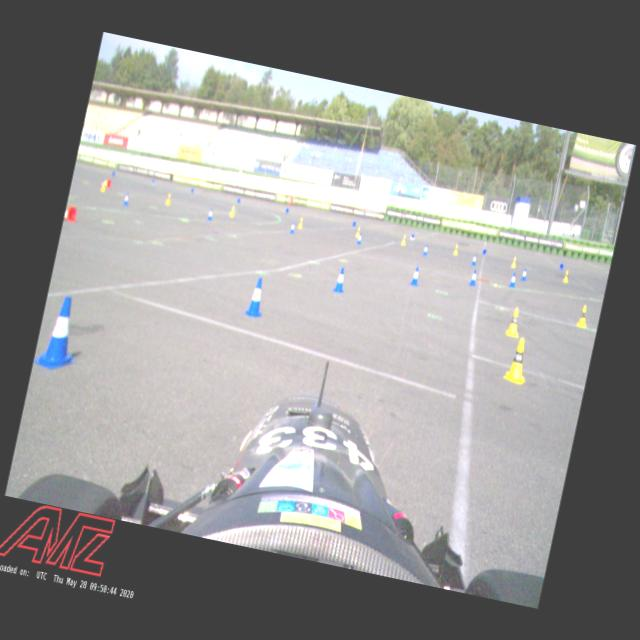blue_cone: (32, 292, 89, 374), (242, 276, 270, 320), (332, 265, 348, 293), (409, 265, 422, 286), (468, 268, 480, 287), (507, 270, 518, 288), (121, 192, 130, 206), (205, 207, 214, 221), (520, 267, 528, 281), (356, 232, 364, 246), (470, 252, 478, 266), (288, 221, 296, 234), (422, 243, 429, 256)
orange_cone: (62, 204, 78, 222), (100, 177, 112, 188)
yellow_cone: (501, 335, 534, 385), (504, 306, 524, 338), (576, 302, 590, 328), (562, 269, 570, 283), (164, 192, 172, 206), (510, 255, 518, 269), (296, 216, 304, 229), (229, 205, 236, 218), (400, 233, 407, 246), (452, 243, 459, 255), (354, 226, 361, 238), (100, 180, 106, 192)
